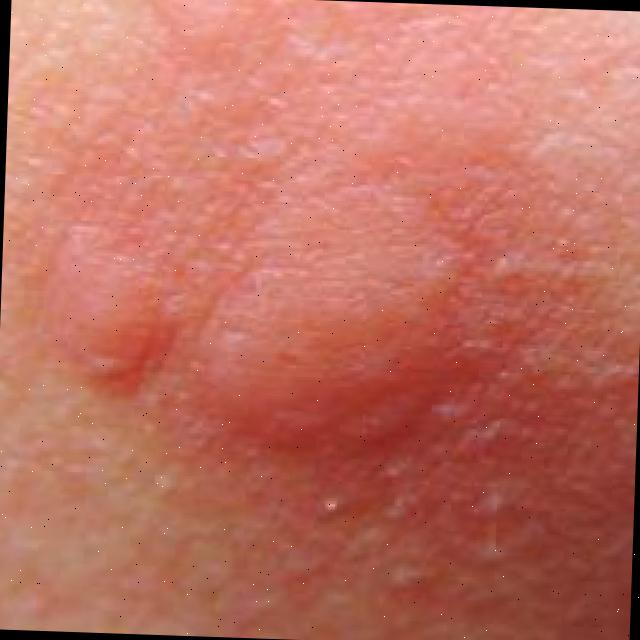sinek: (12, 84, 613, 519)
